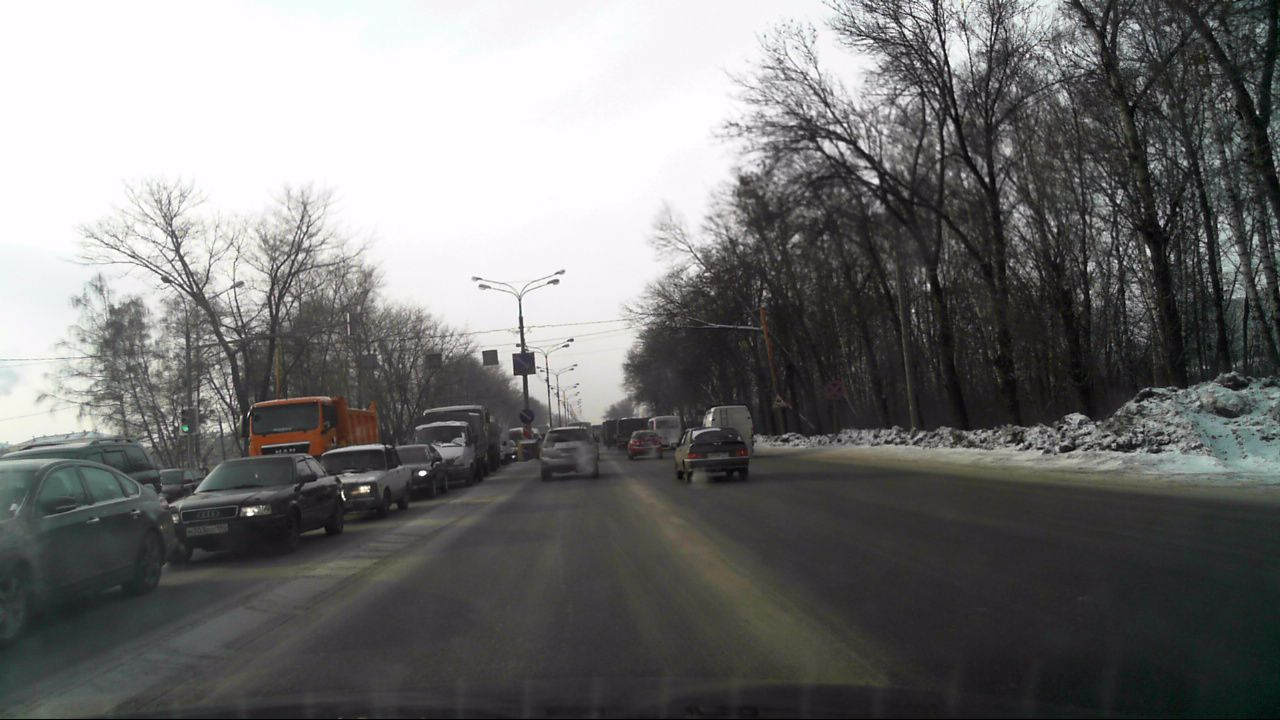No Parking: (824, 380, 844, 400)
